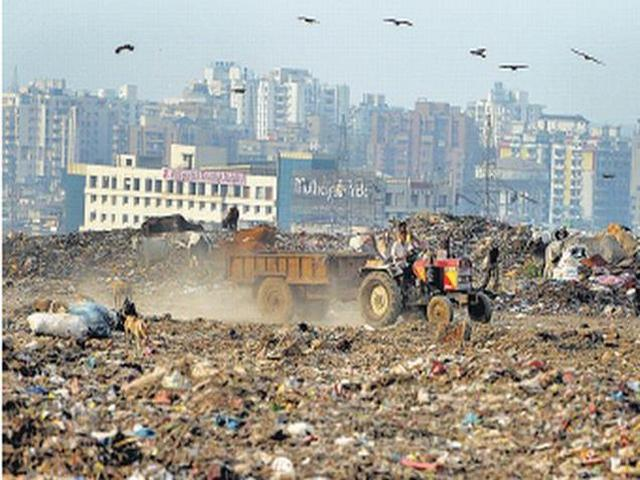garbage: (41, 330, 616, 467)
